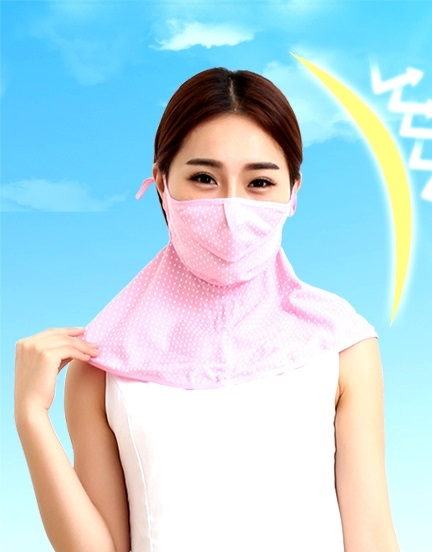face_mask: (164, 113, 290, 290)
